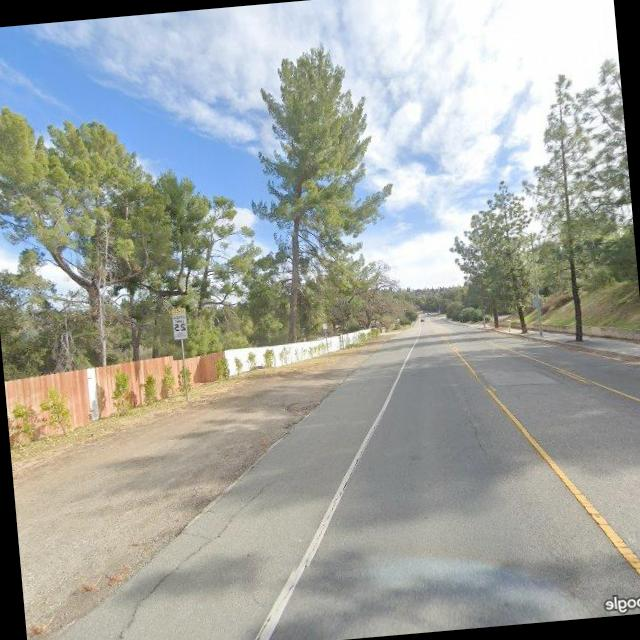crack: (103, 471, 296, 640), (466, 411, 490, 456)
